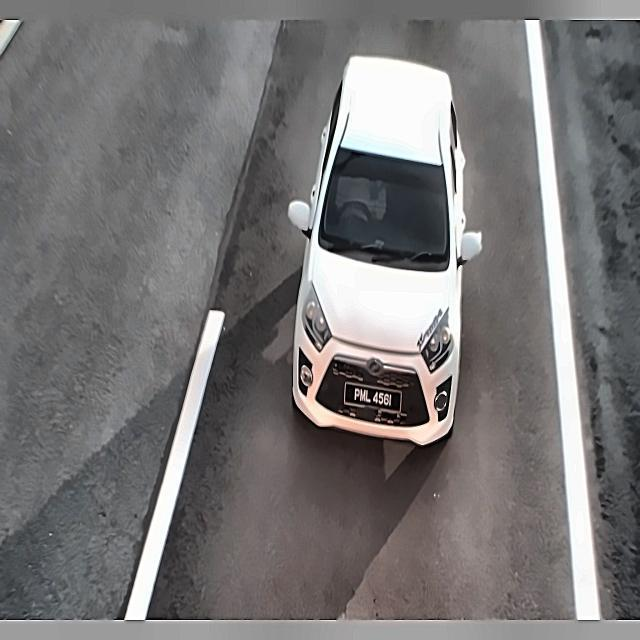car: (341, 378, 408, 422)
